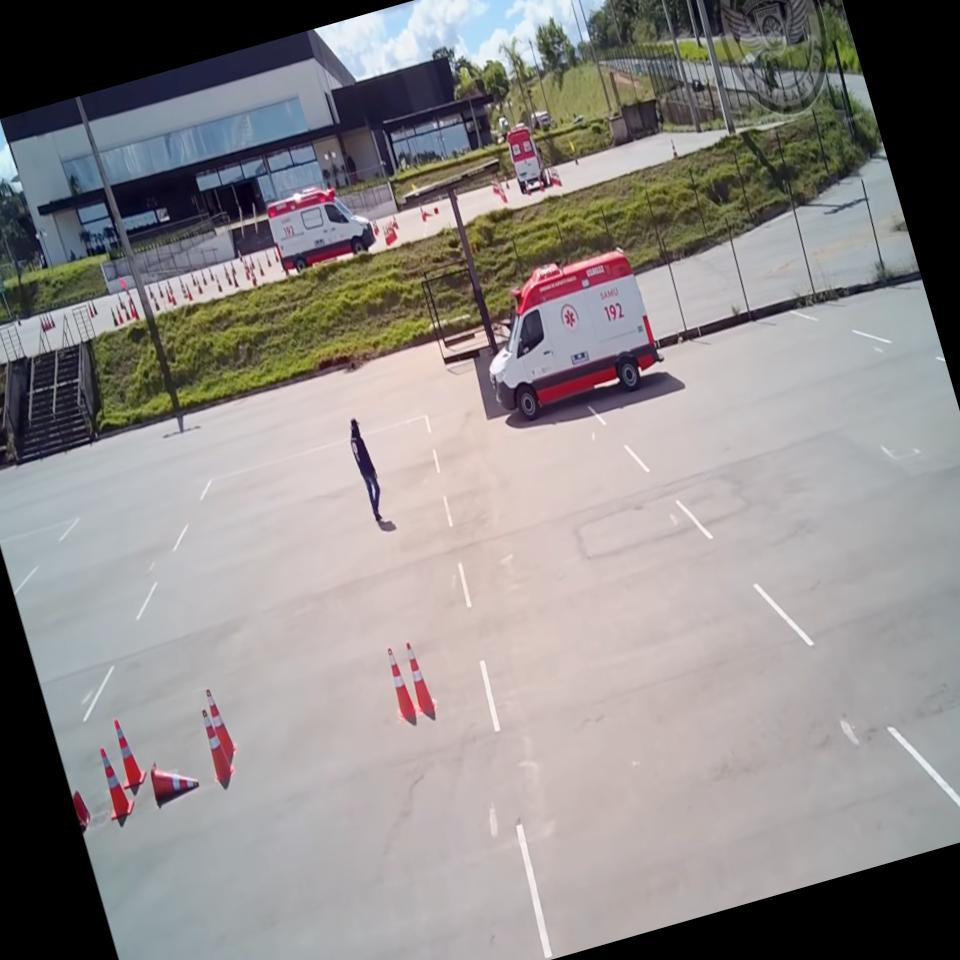bombeiro: (464, 238, 671, 428), (261, 173, 378, 275), (502, 120, 549, 194)
